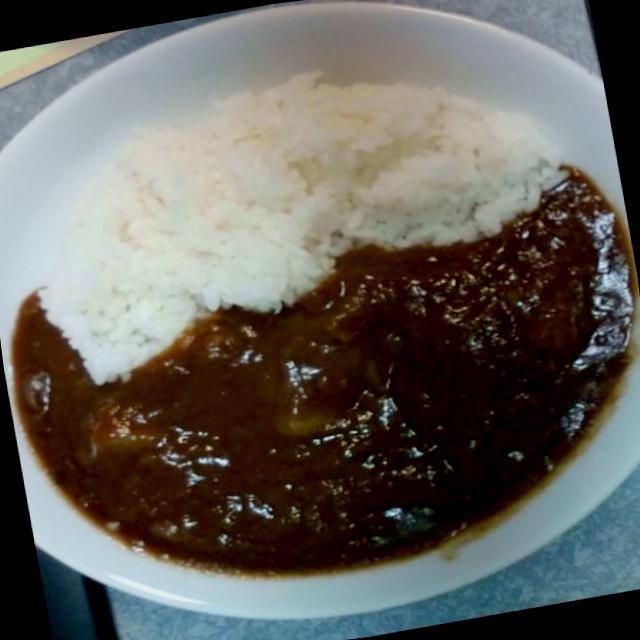Beef Curry: (0, 203, 640, 624)
